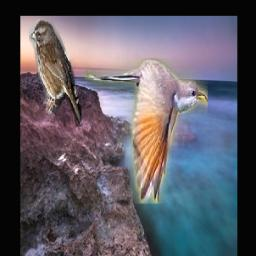Cuckoo: (86, 59, 209, 205)
Sparrow: (29, 20, 81, 128)
